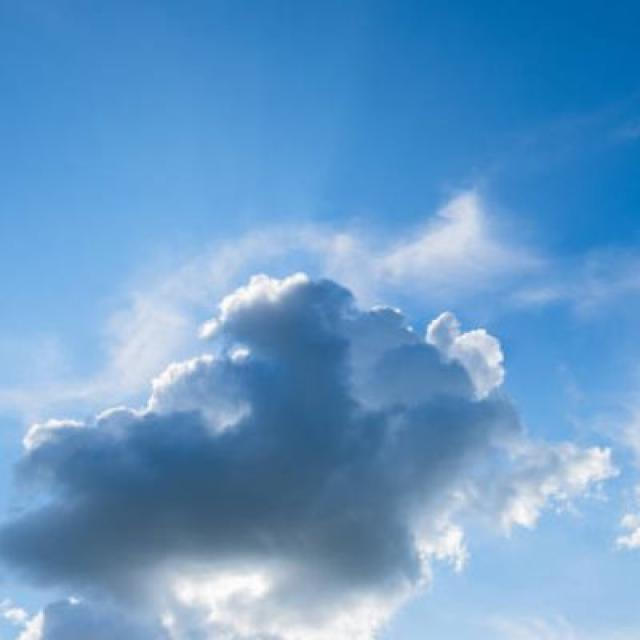As: (1, 261, 634, 640)
